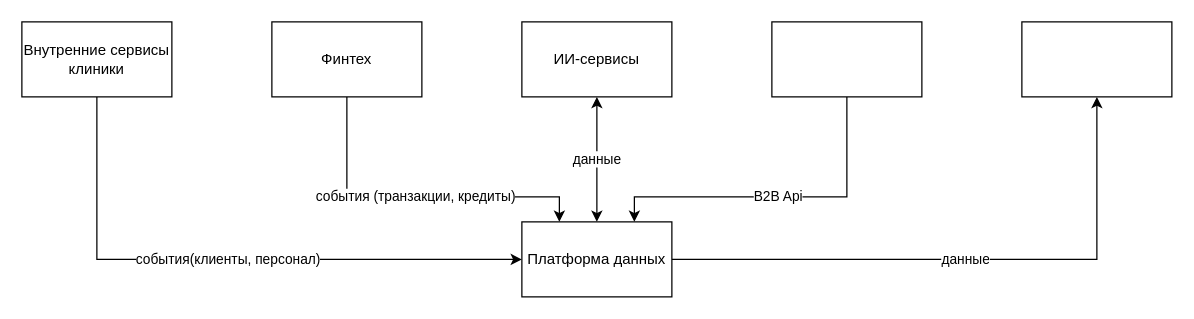
Some shapes in this 1194 by 319 pixel diagram are drawn without their labels. The shapes that lost their labels are listed below. From the top down, each one's centre as x and y in pixels, then its label:
the point at 846,59: Партнеры (фармацевтика)
the point at 1096,59: Витрина данных + BI
